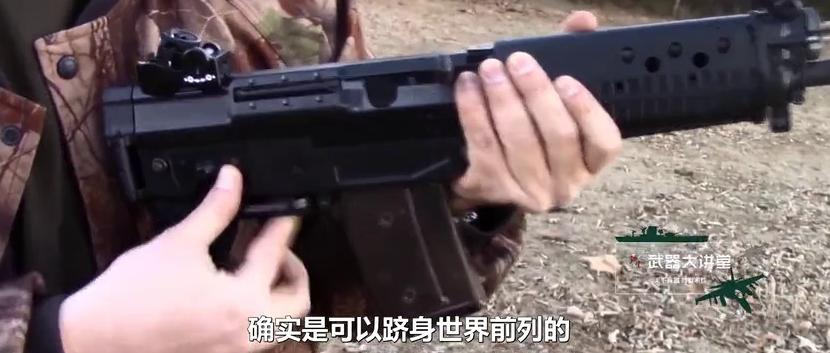gun: (1, 0, 830, 353)
